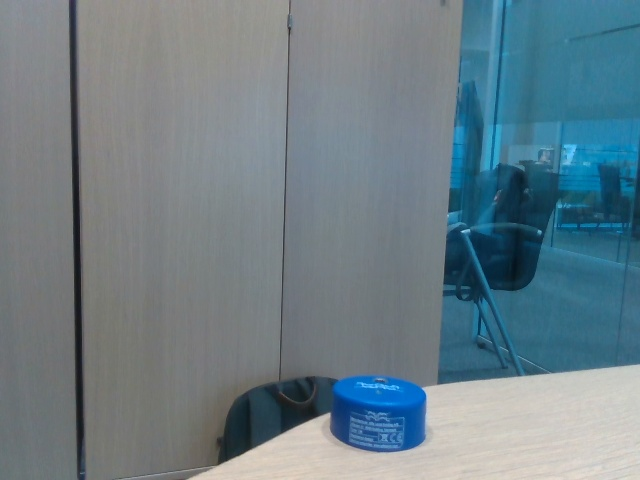alfa: (327, 370, 429, 453)
